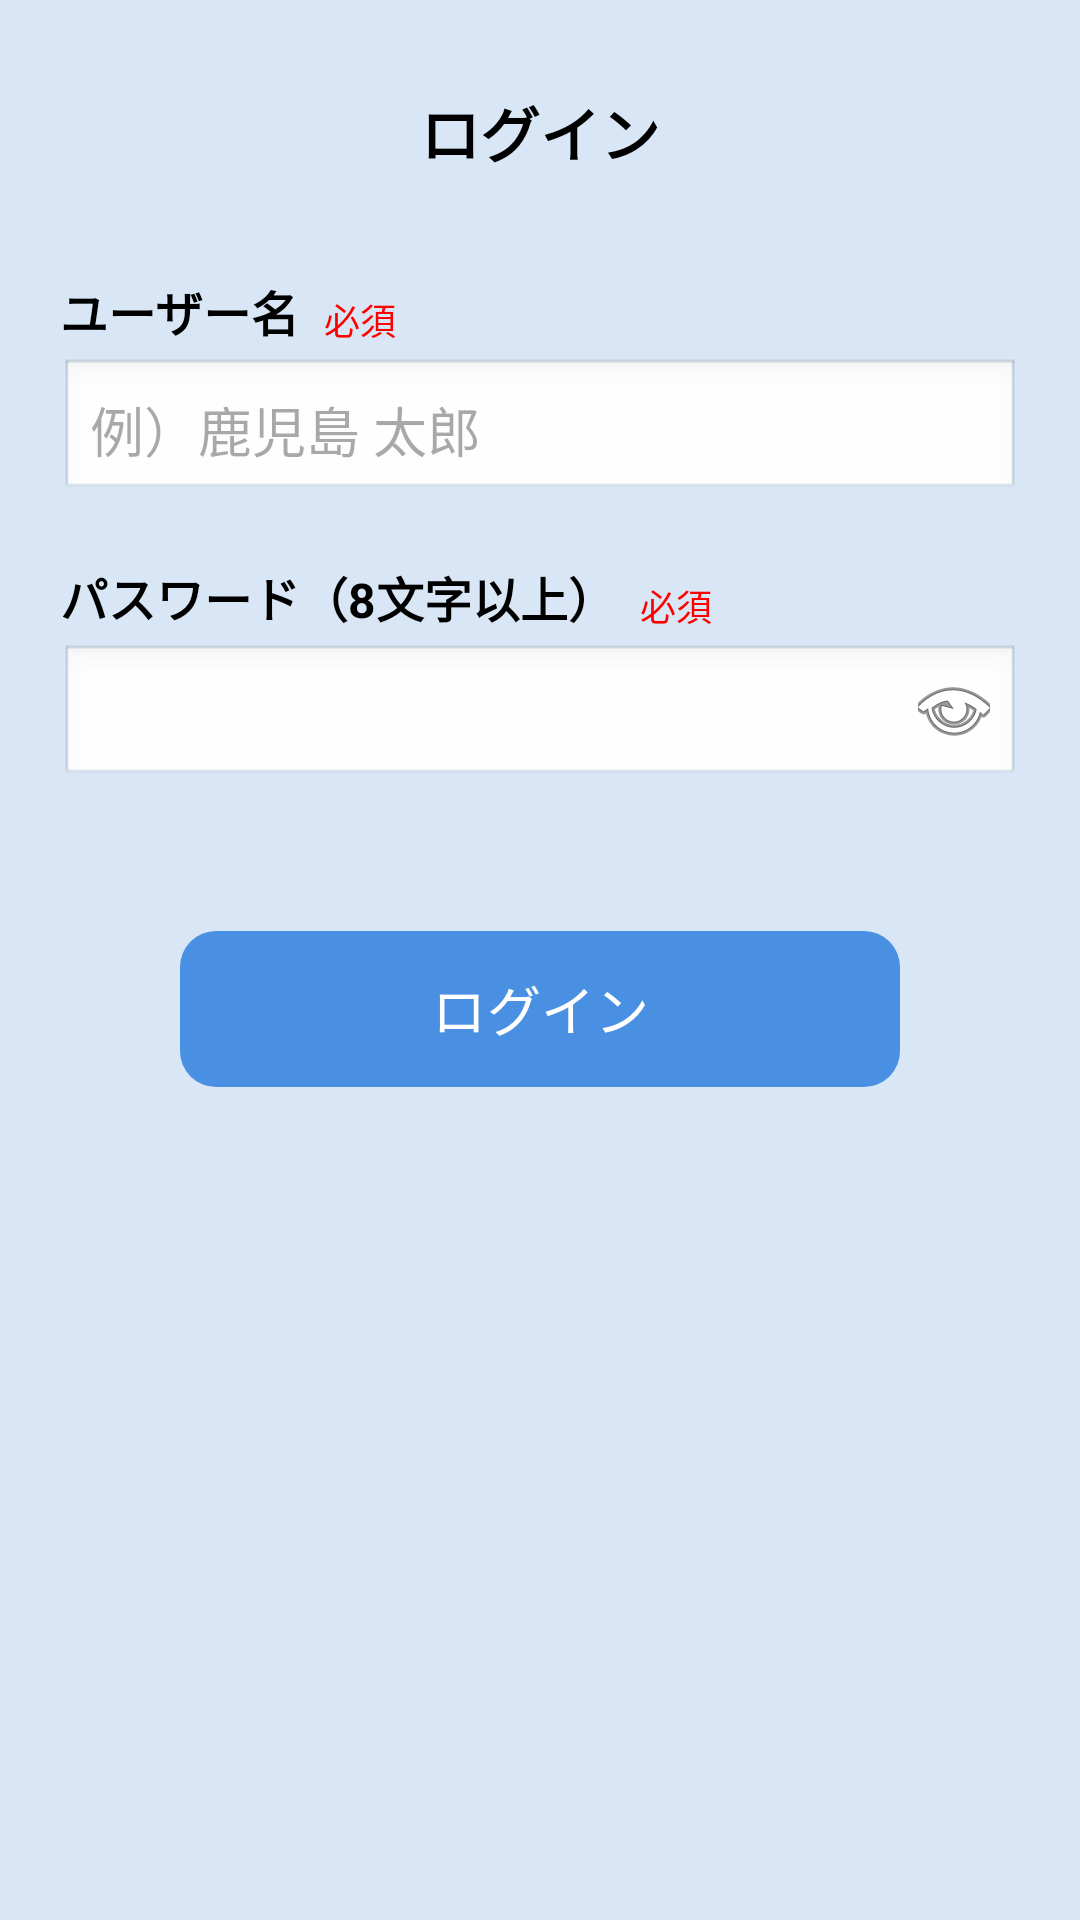

Named icons in this screenshot (1080w x 1920h) and their centers, point (x, y):
view: point (954, 711)
